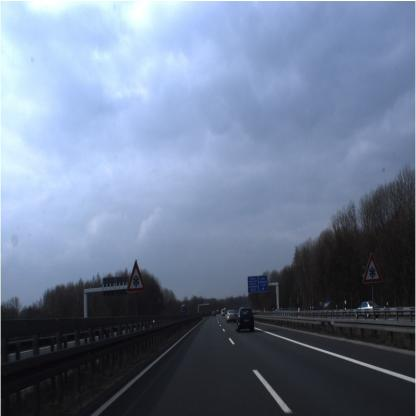SNOW: (126, 259, 146, 293), (362, 252, 382, 284)
